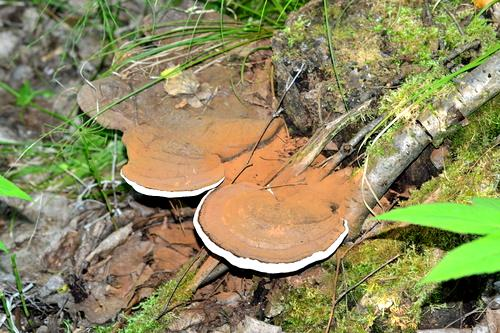Ganoderma - Fruit Body: (77, 58, 201, 199), (199, 187, 347, 276)
